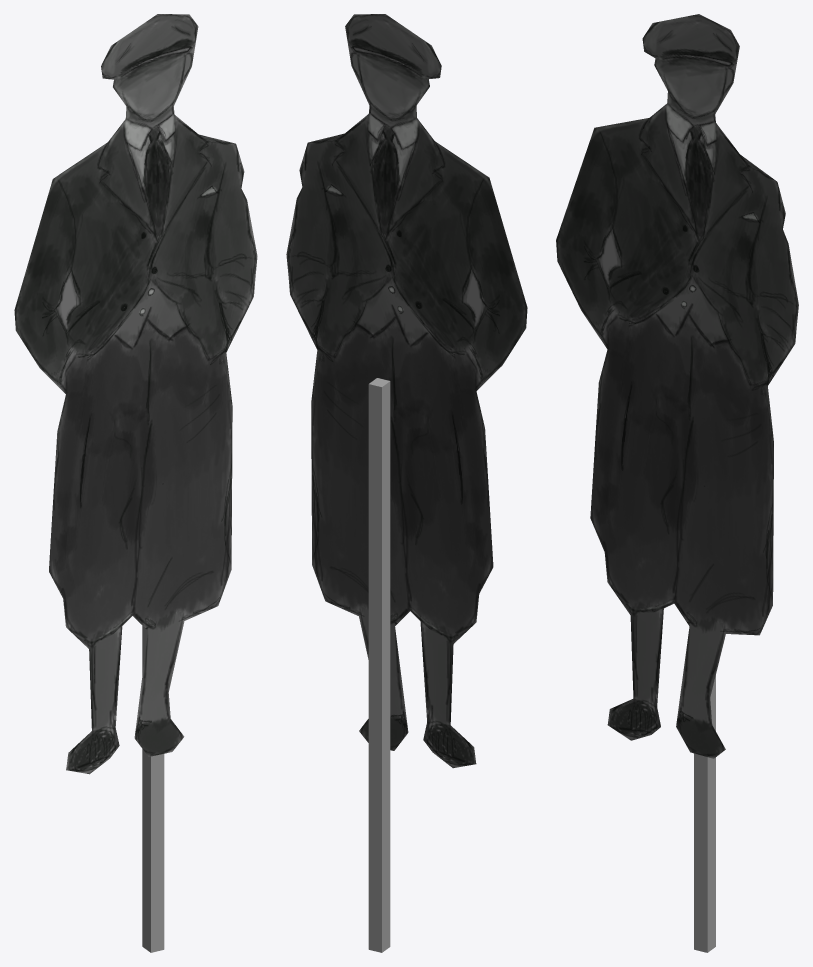
The model's file is Depression_Man3.fbx.
3 renders of one model, left to right at view 1: azimuth 30°, elevation 25°; view 2: azimuth 150°, elevation 25°; view 3: azimuth 330°, elevation 25°, orthographic.
Visible parts, largest first — view 1: pCube3; view 2: pCube3; view 3: pCube3.
Part boxes in pixels (<box>): pCube3: <box>14,14,257,952</box>; pCube3: <box>286,14,527,952</box>; pCube3: <box>556,14,798,952</box>.
Bounding box in the file's own units: 0.0135 × 0.0498 × 0.000904.
2 materials, 1 textured.
